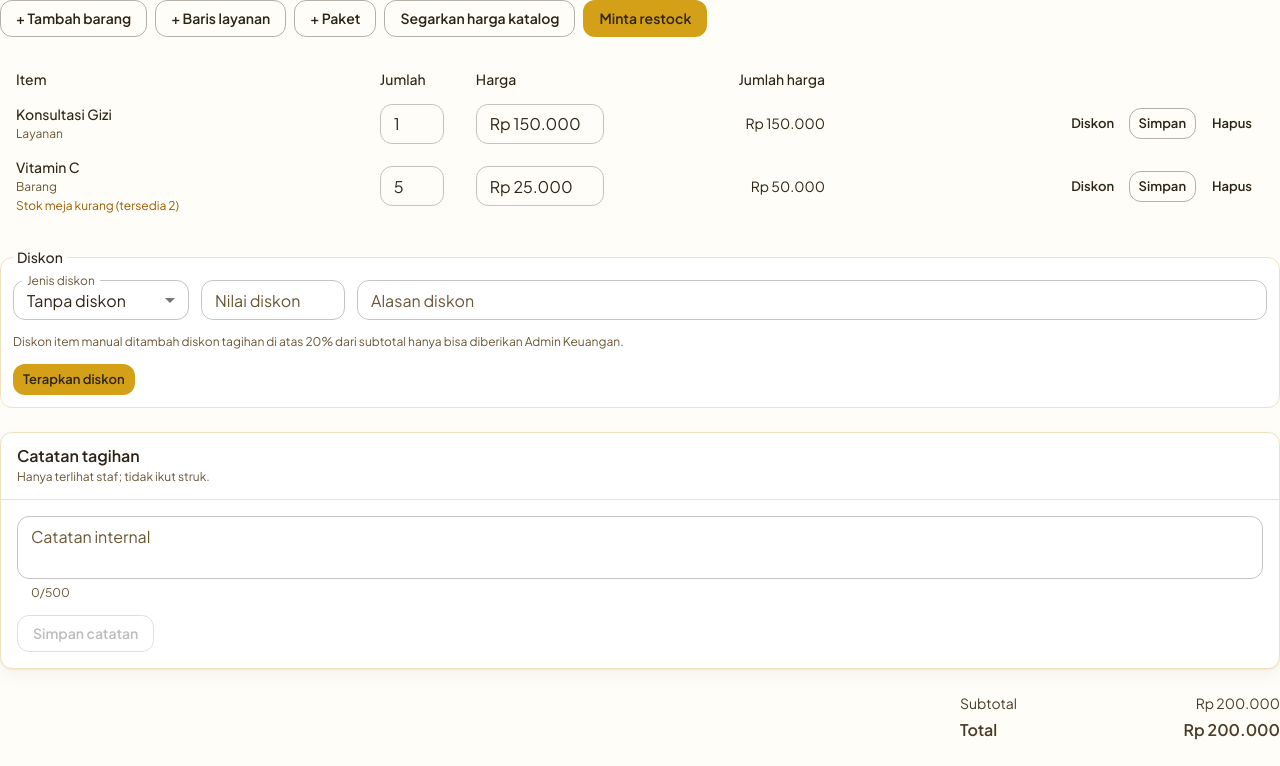
Test: editor draf tagihan › stok meja kurang: baris ditandai dan tombol Minta restock tampil (spec stok meja 4.1)
This screenshot has width=1280, height=766.
Expected: the text "Stok meja kurang (tersedia 2)" is shown, x1=16 y1=198 x2=179 y2=213
Click the button "Minta restock" at (645, 18), box x1=584 y1=0 x2=707 y2=36
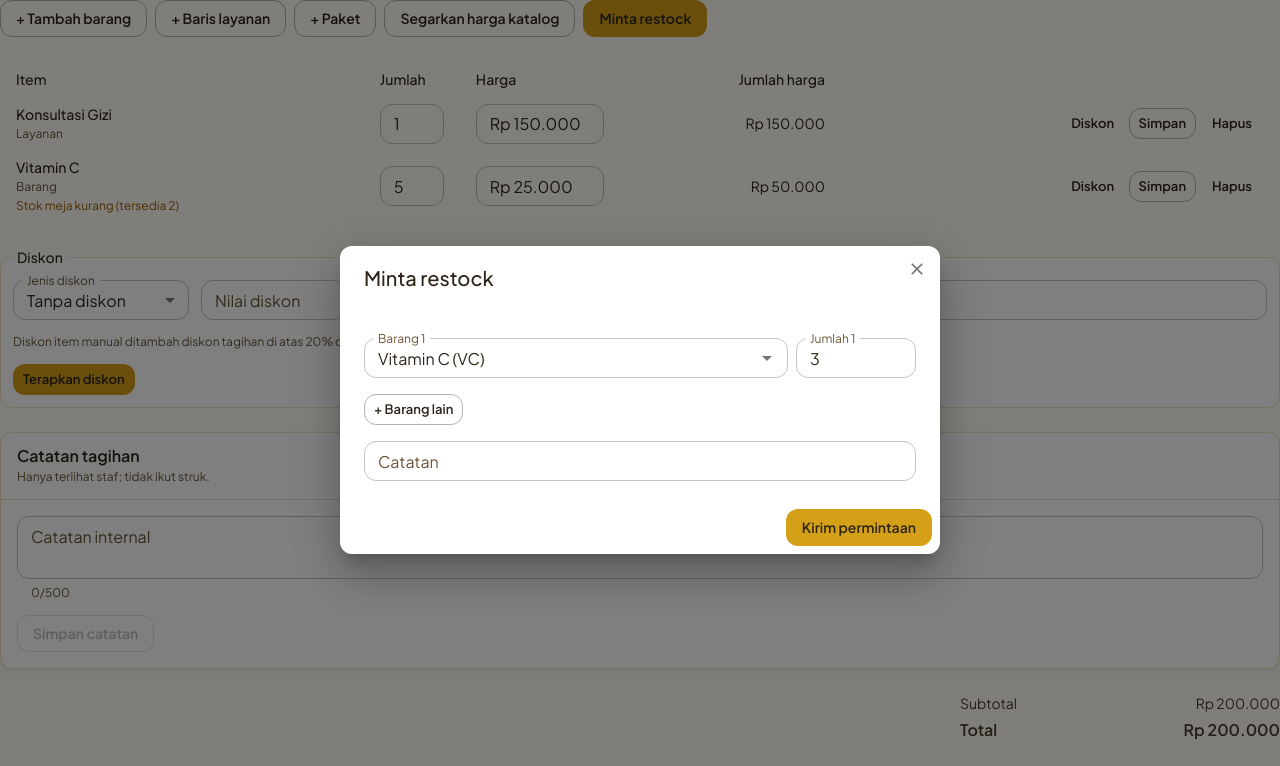
Now the number field labelled "Jumlah 1" holds "3", box x1=796 y1=338 x2=916 y2=378
